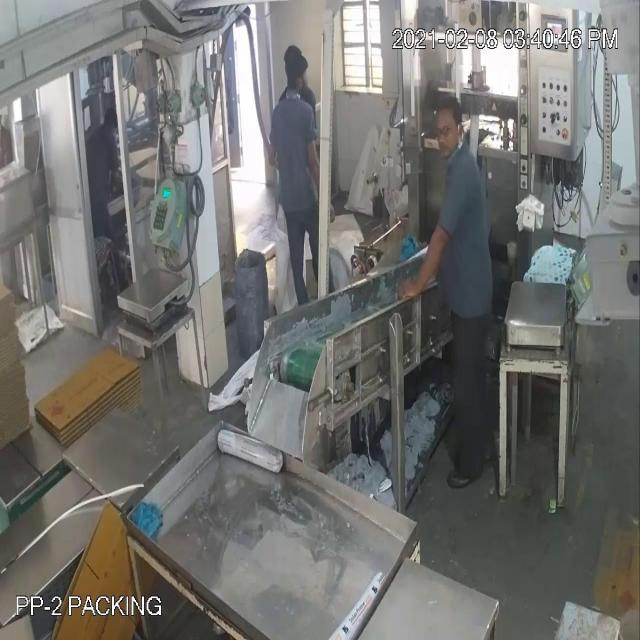No_Gloves: (388, 209, 460, 319)
